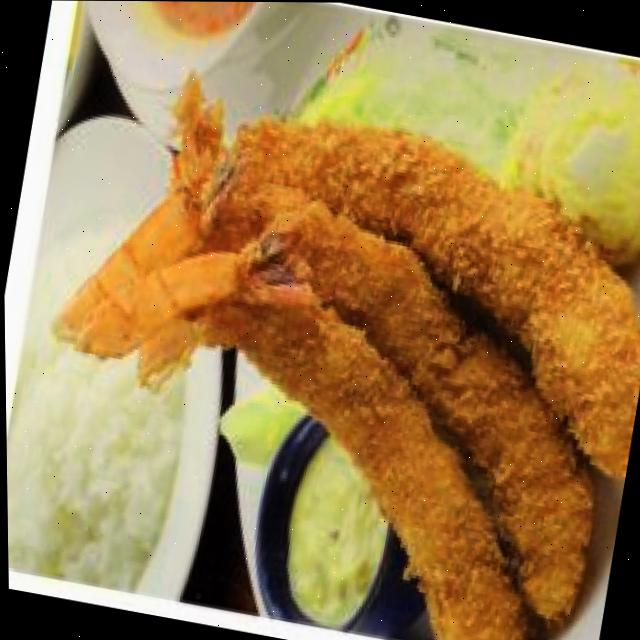炸货点心: (19, 56, 640, 640)
熟制海鲜: (19, 56, 640, 640)
